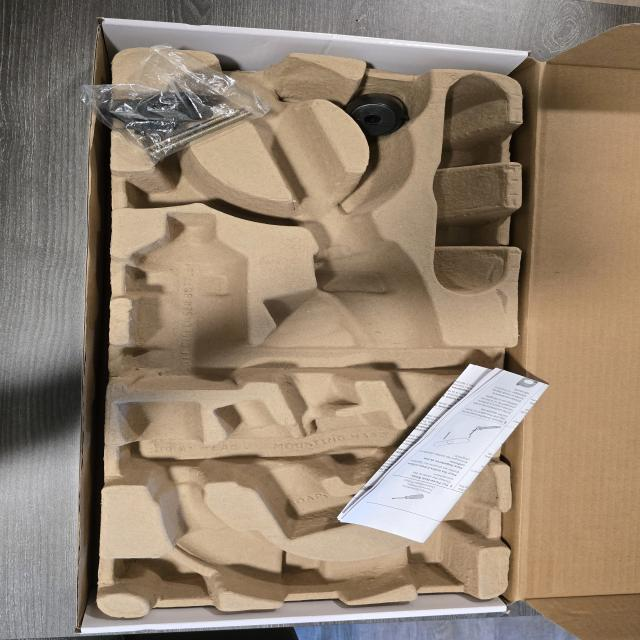1m: (120, 49, 498, 598)
2m: (211, 398, 421, 540)
3m: (125, 211, 246, 389)
4m: (433, 76, 507, 295)
5: (349, 94, 409, 137)
6m: (126, 163, 258, 215)
7: (81, 45, 275, 163)
8: (335, 363, 549, 544)
